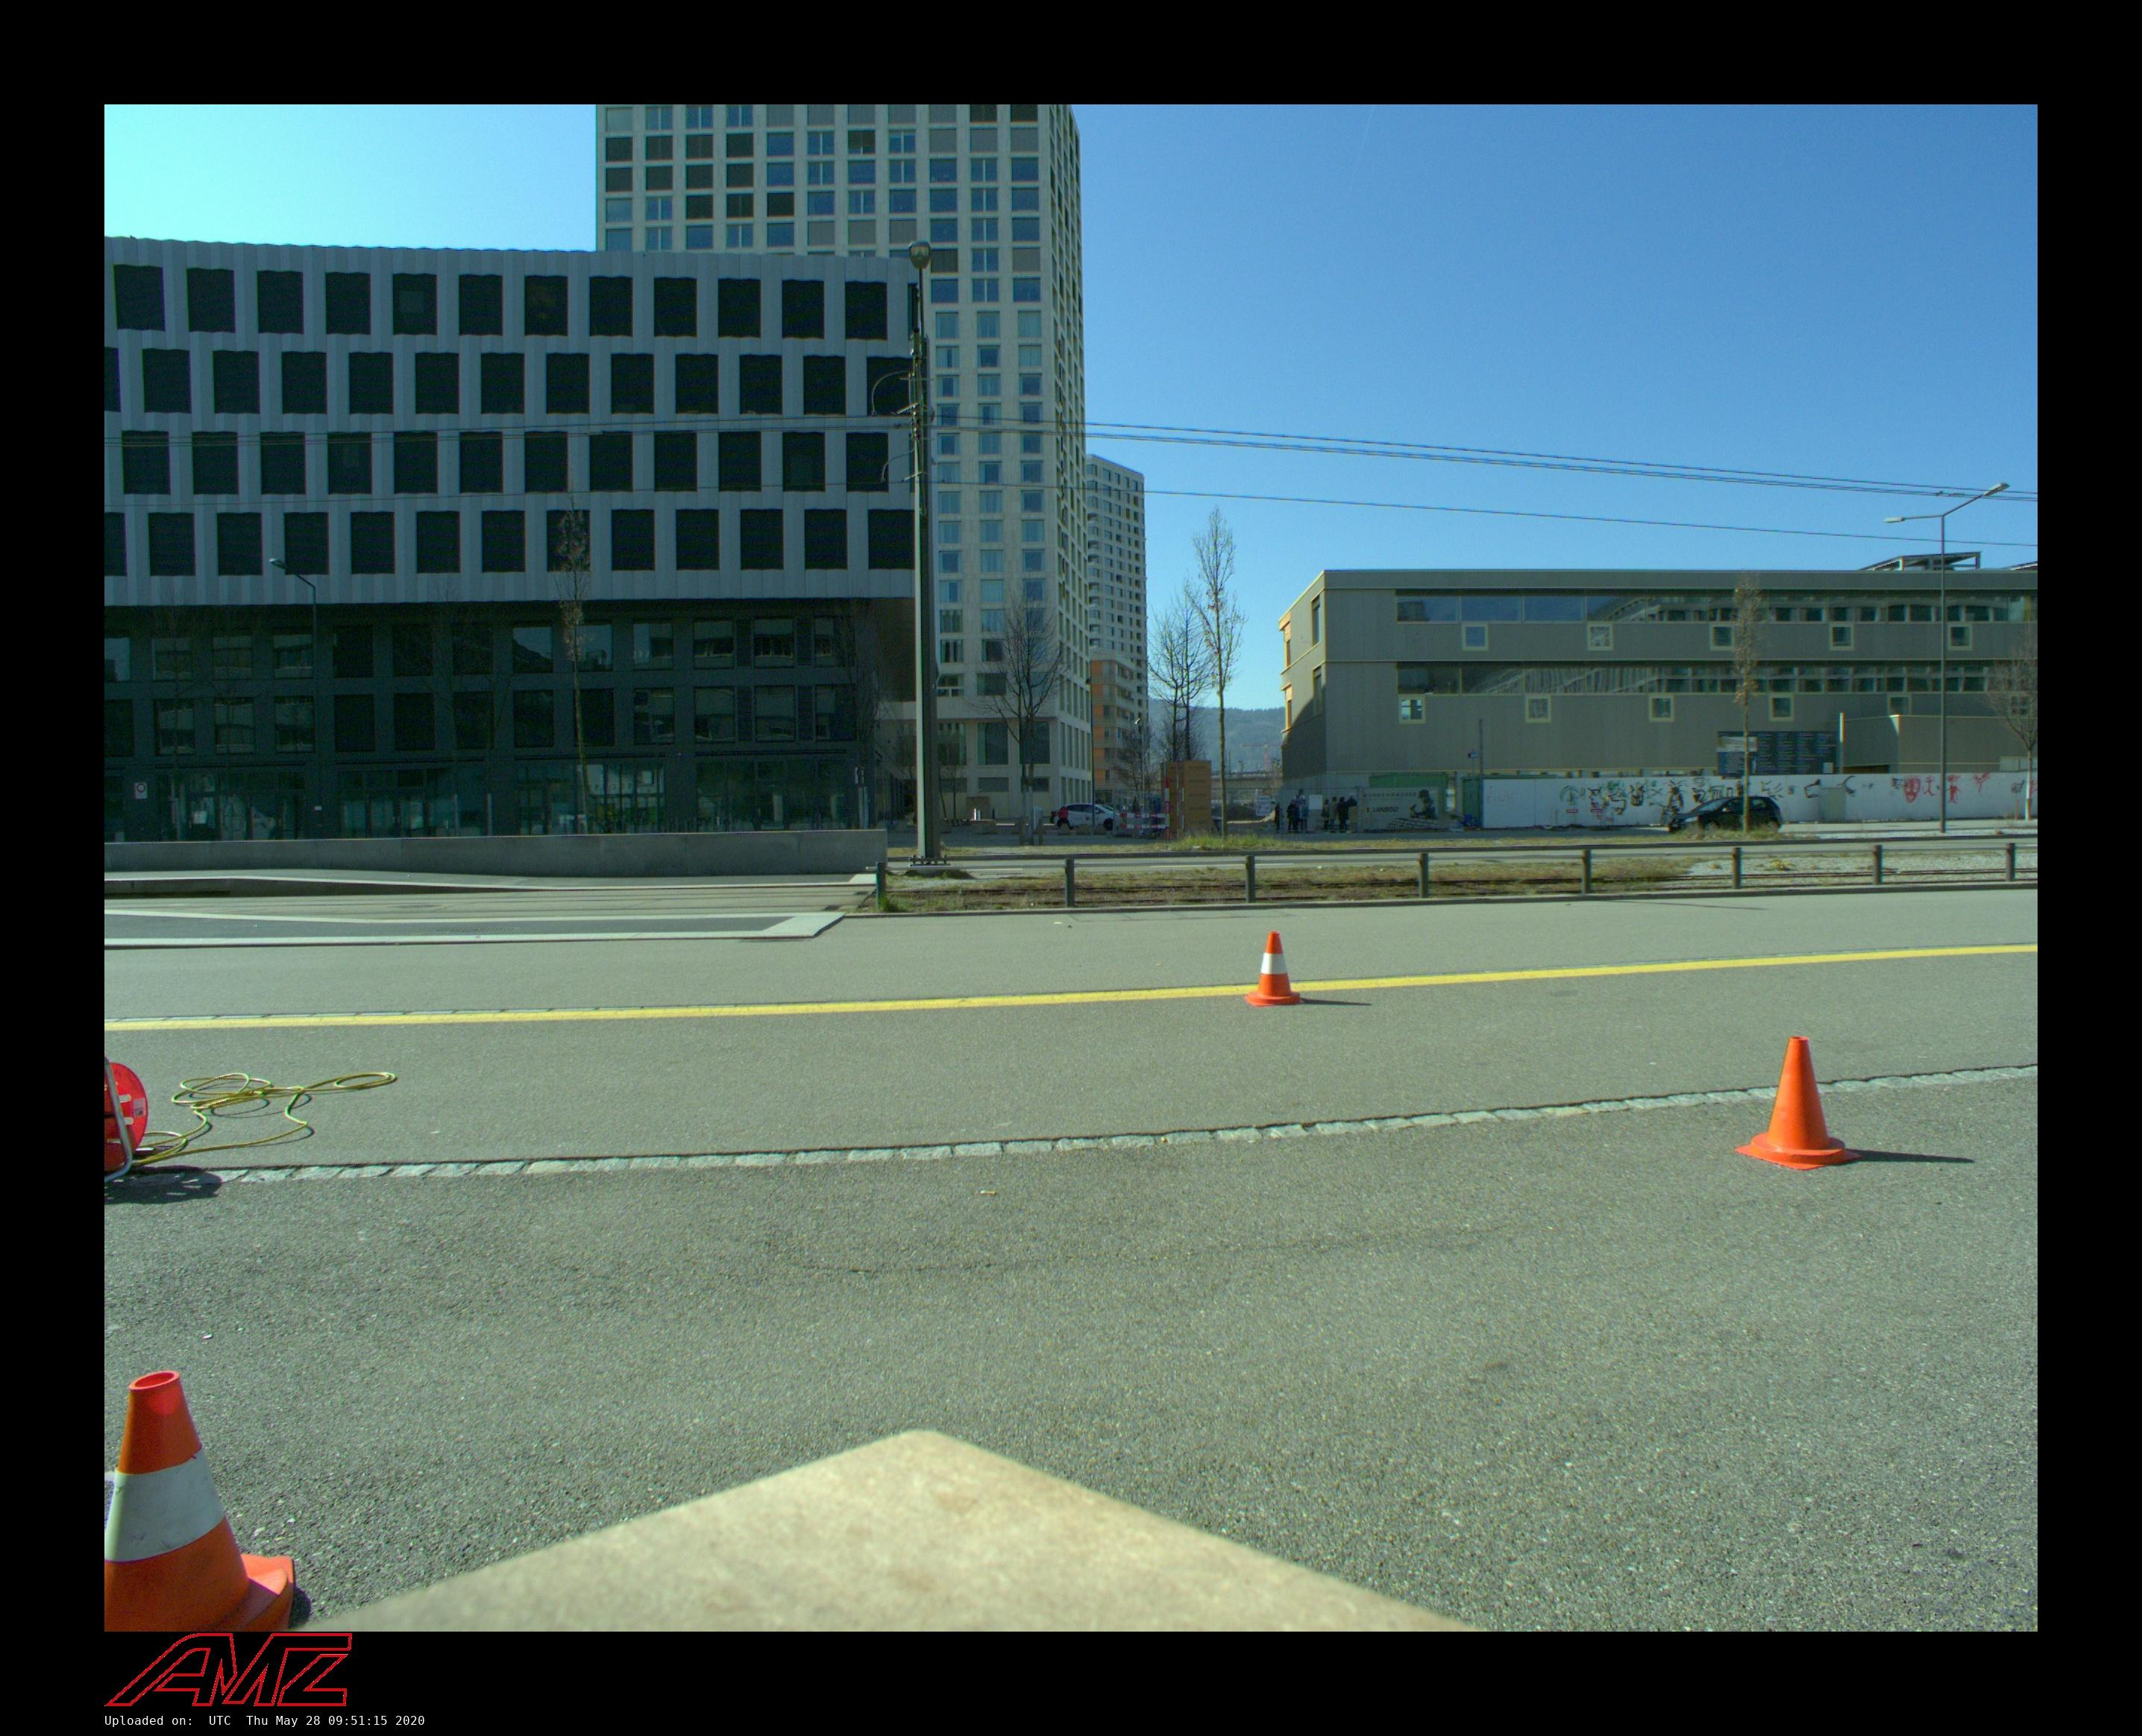orange_cone: (105, 1371, 294, 1631), (1736, 1036, 1862, 1169), (1246, 930, 1304, 1004)
